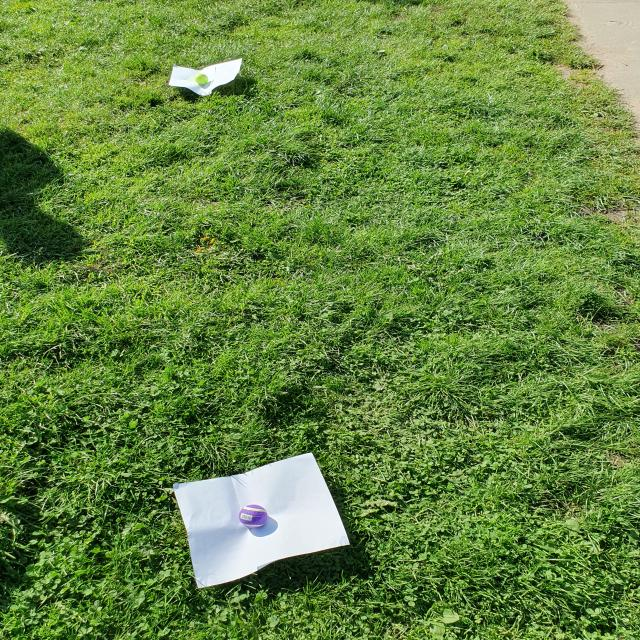green: (194, 73, 208, 85)
purple: (239, 504, 268, 528)
